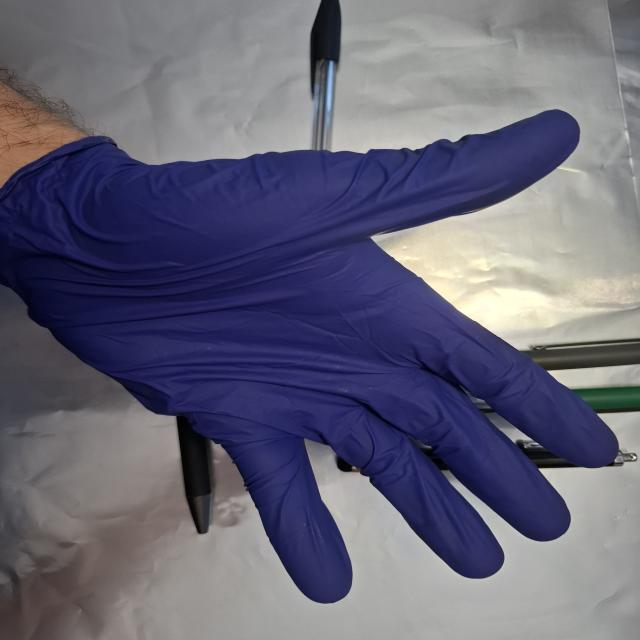glove_on: (4, 104, 624, 608)
